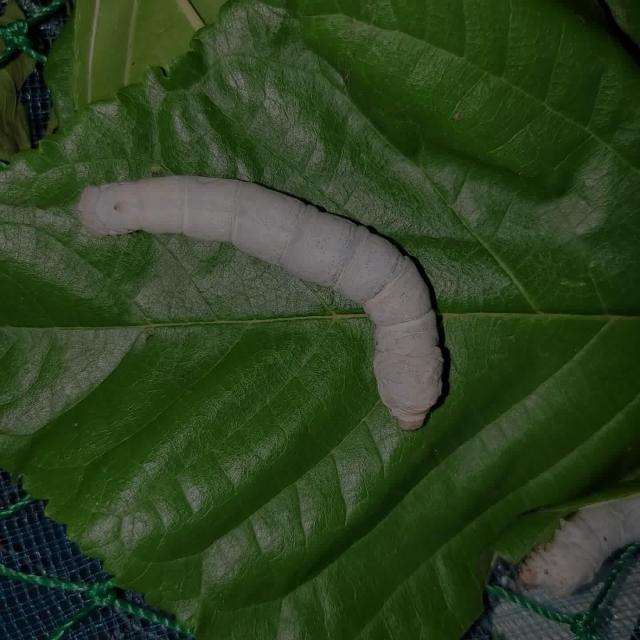Healthy: (71, 160, 458, 439)
